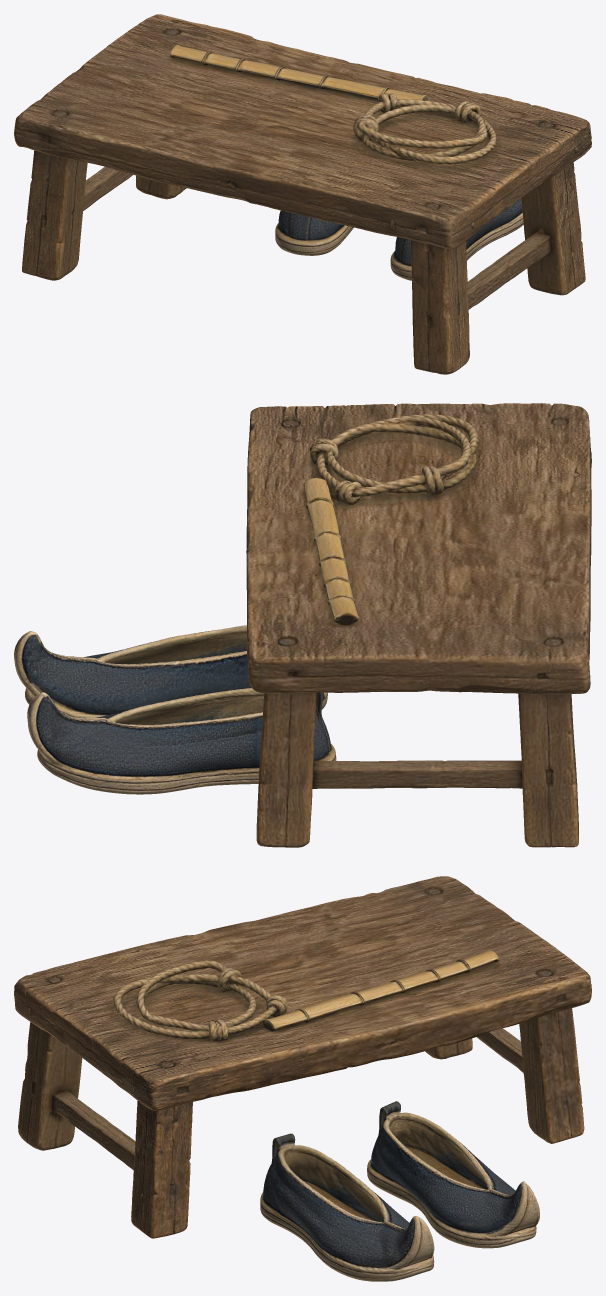
The picture shows the model from 3 angles, top to bottom: view 1: azimuth 30°, elevation 25°; view 2: azimuth 150°, elevation 25°; view 3: azimuth 270°, elevation 25°; orthographic projection. The views are drawn at different scales.
Visible parts, largest first — view 1: tripo_node_e0d0126e-c12b-4397-9712-7afad19bdc2d; view 2: tripo_node_e0d0126e-c12b-4397-9712-7afad19bdc2d; view 3: tripo_node_e0d0126e-c12b-4397-9712-7afad19bdc2d.
Part boxes in pixels (box(x1,y1,x2,y2)): tripo_node_e0d0126e-c12b-4397-9712-7afad19bdc2d: box(14, 14, 591, 374); tripo_node_e0d0126e-c12b-4397-9712-7afad19bdc2d: box(14, 403, 591, 847); tripo_node_e0d0126e-c12b-4397-9712-7afad19bdc2d: box(14, 876, 591, 1281).
Bounding box in the file's own units: 1.1 × 0.4253 × 1.11.
Materials: 1 (1 with a texture image).
